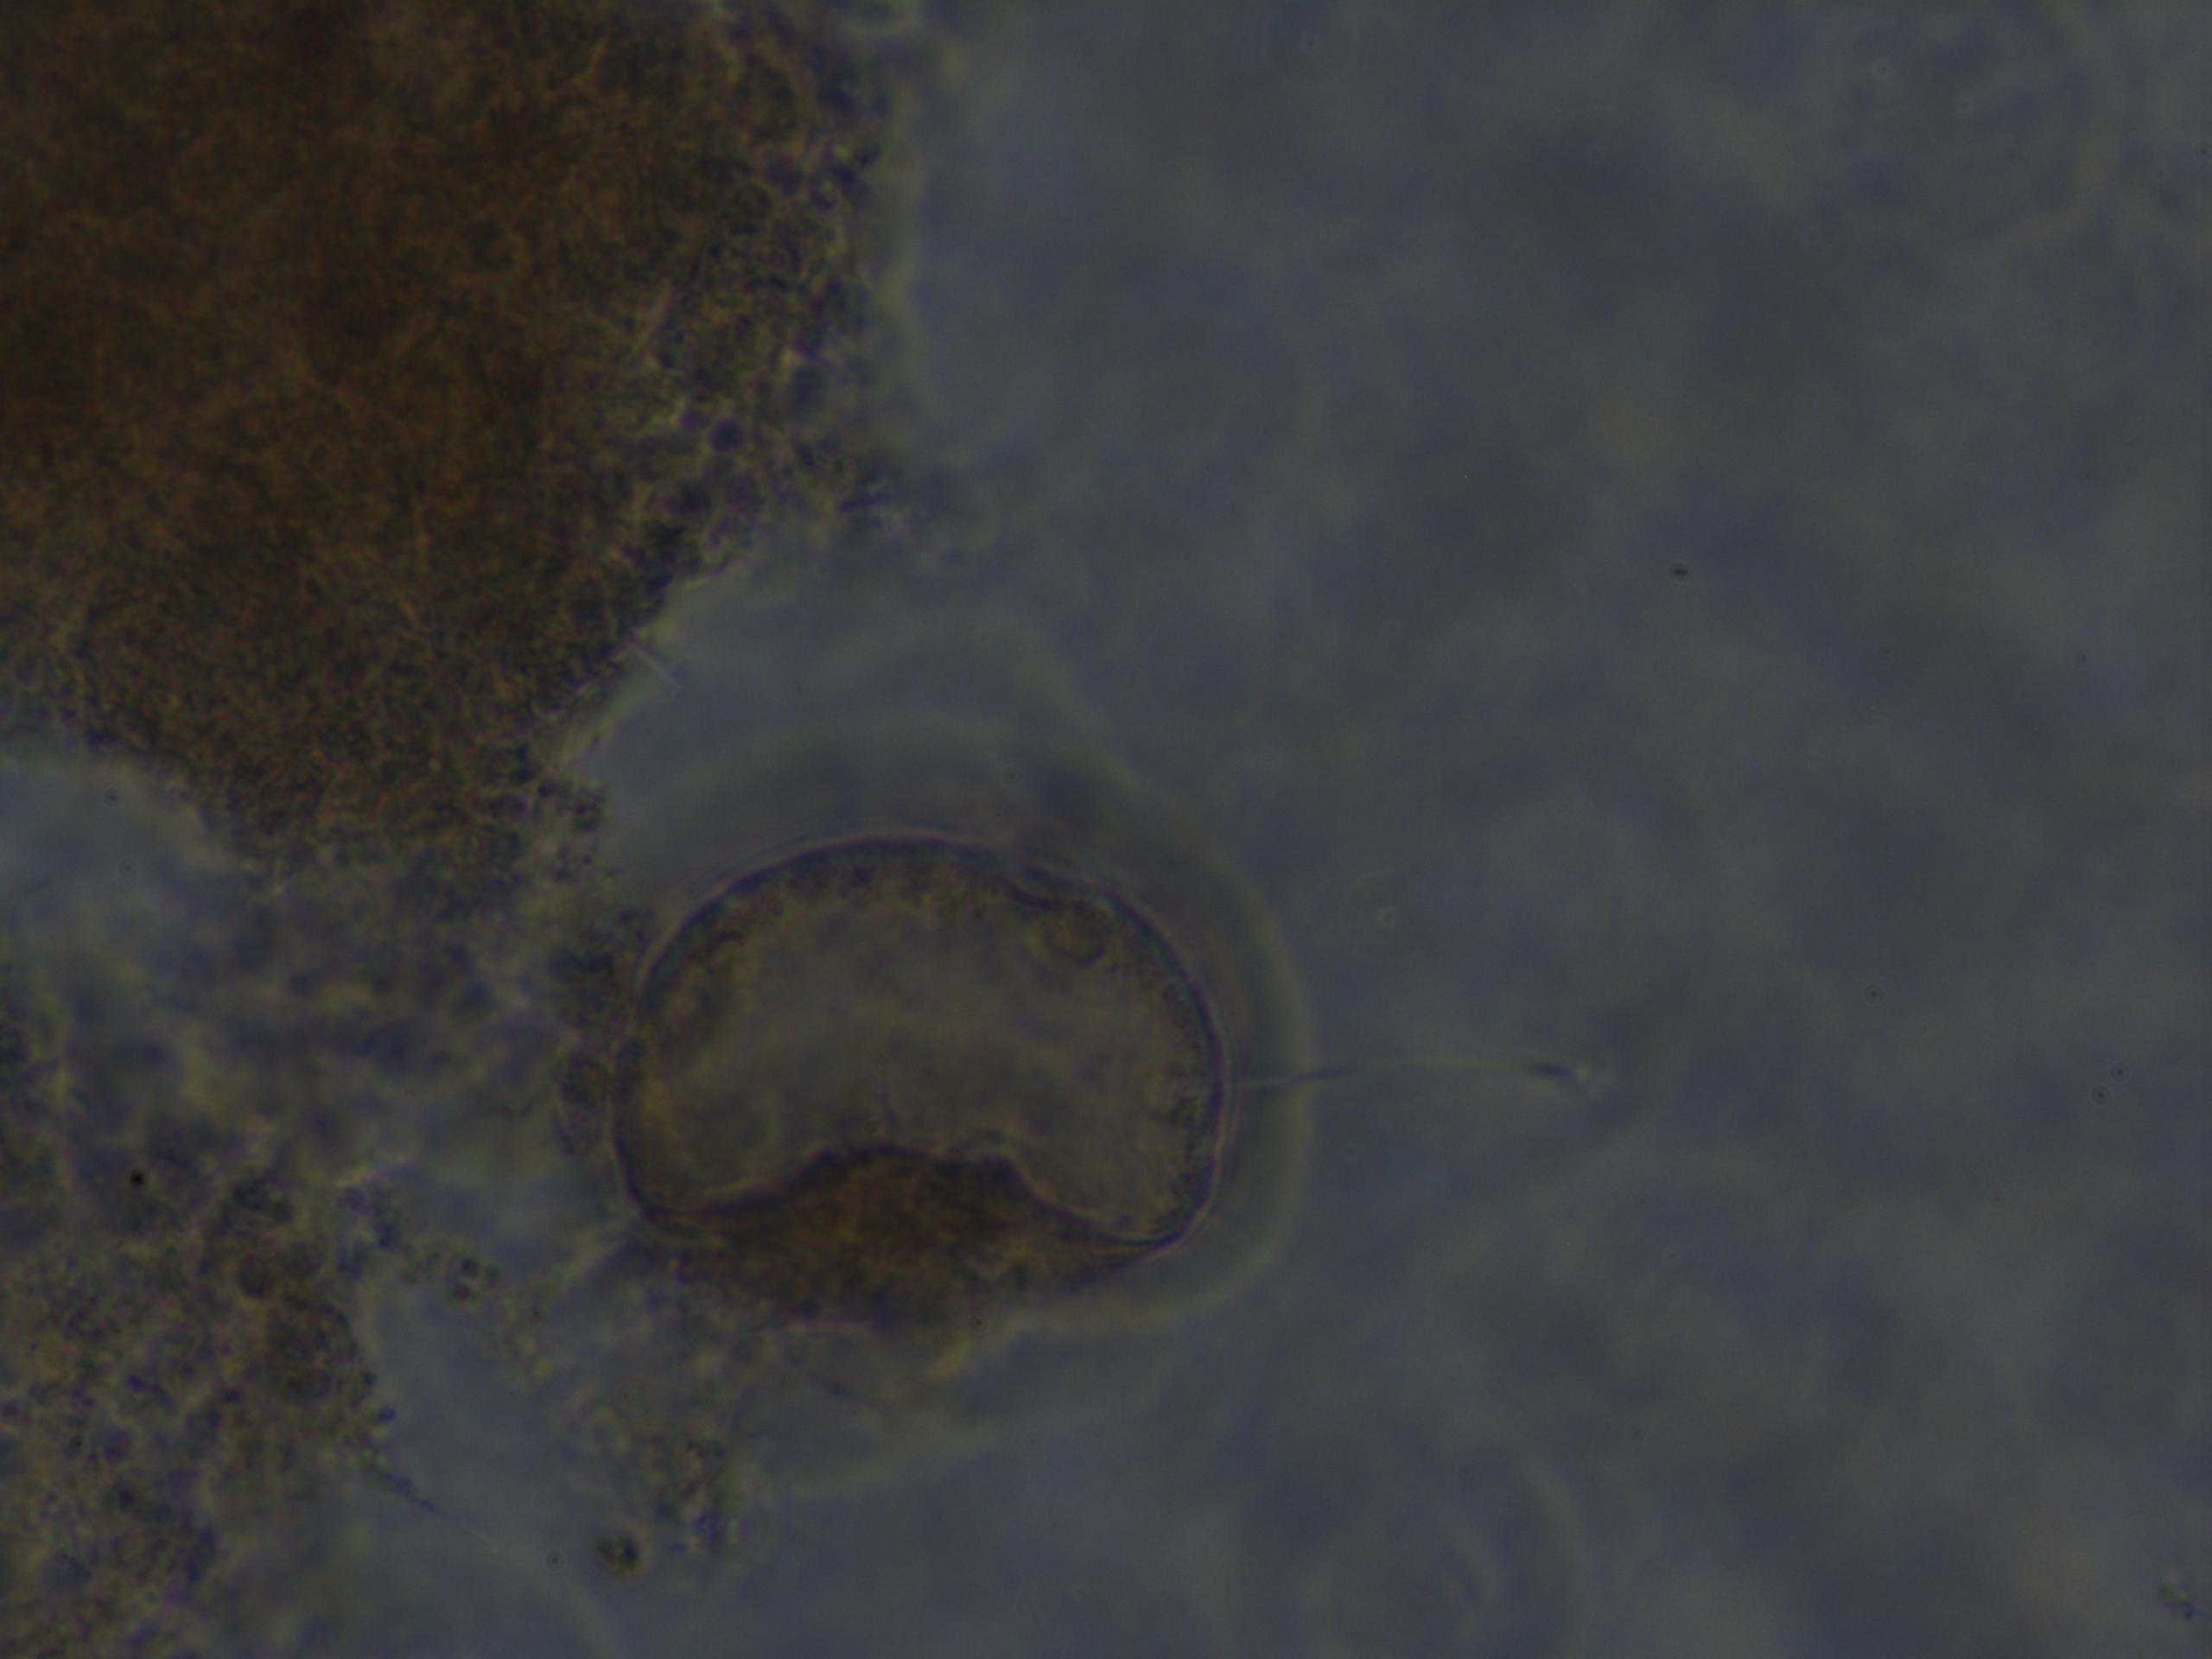protozoa: (512, 753, 1327, 1347)
